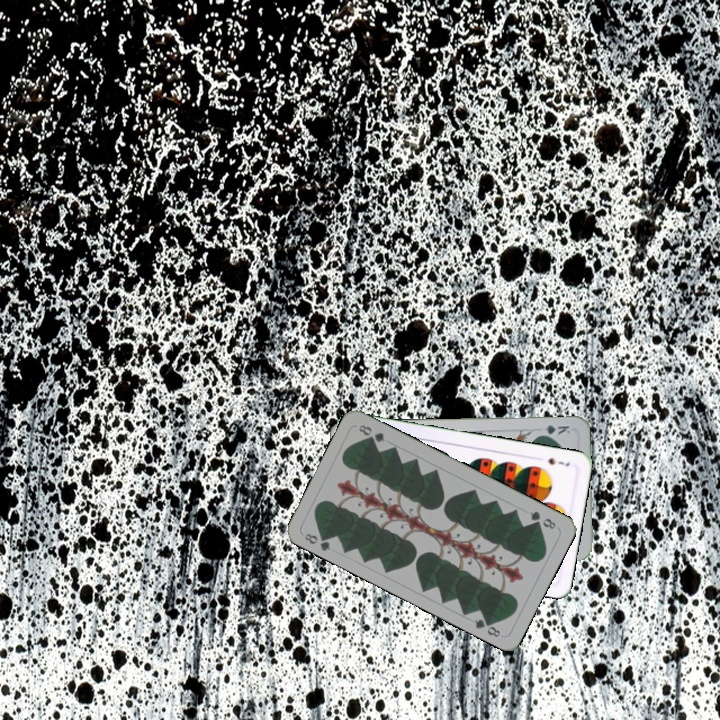G8: (526, 507, 559, 532), (300, 529, 333, 554)
GK: (533, 421, 573, 438)
S7: (544, 454, 572, 469)
